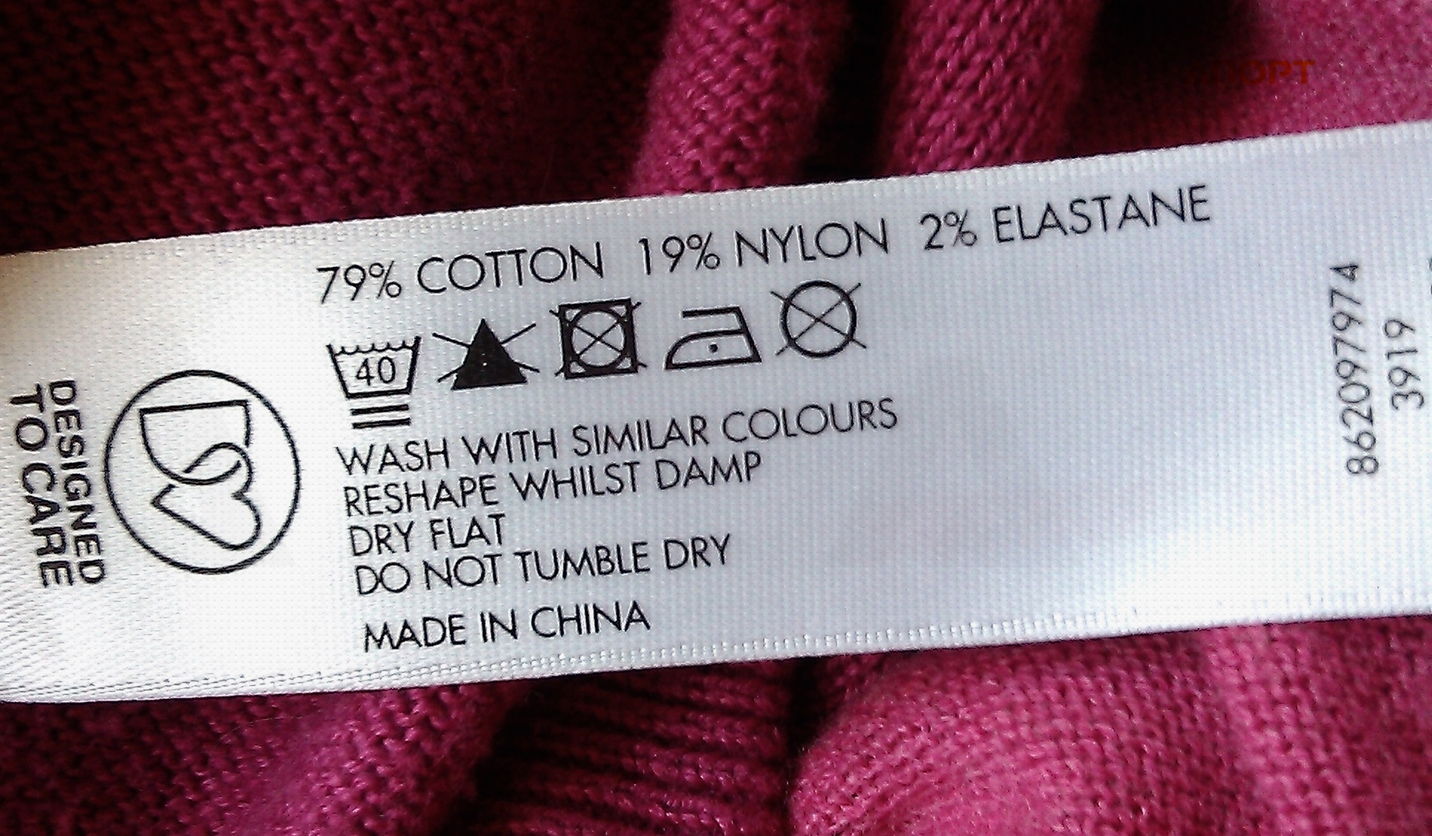ER_iron_low_temp: (651, 297, 768, 382)
ER_no_bleach: (433, 304, 543, 408)
ER_no_dry_clean: (768, 272, 870, 365)
ER_no_tumble_dry: (548, 285, 659, 394)
ER_wash_40_mild: (321, 329, 430, 439)
